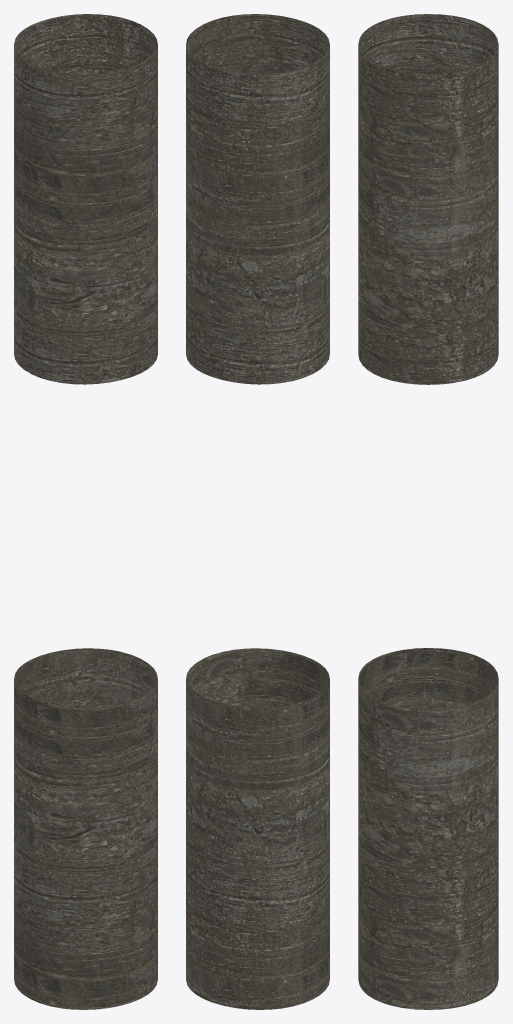
The model's file is tunnel_H3_1.glb.
3 views of the same model, side by side, from view 1: azimuth 30°, elevation 25°; view 2: azimuth 150°, elevation 25°; view 3: azimuth 270°, elevation 25° (orthographic).
Visible parts, largest first — view 1: XSBYSZK_03; view 2: XSBYSZK_03; view 3: XSBYSZK_03.
Part boxes in pixels (left/top/right/bottom): XSBYSZK_03: left=14, top=14, right=157, bottom=1009; XSBYSZK_03: left=186, top=14, right=329, bottom=1009; XSBYSZK_03: left=358, top=14, right=498, bottom=1009.
Size of the model in its own units: 8.79 by 63.3 by 8.6.
1 material, 1 textured.
